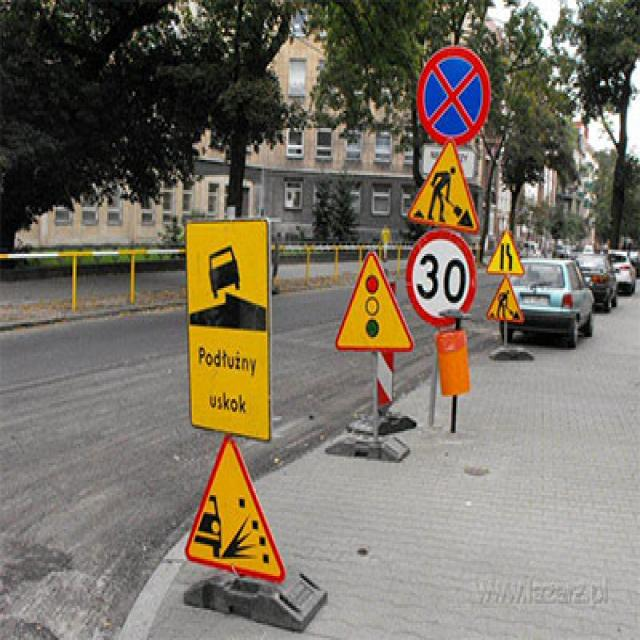Zakaz zatrzymywania sie: (418, 43, 490, 147)
